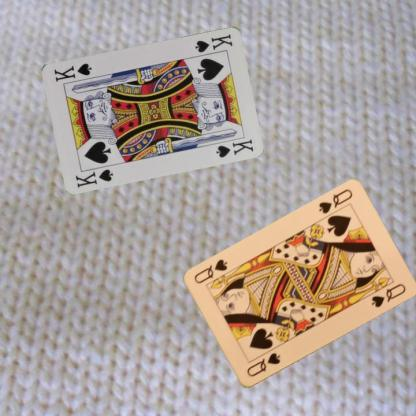Ks: (73, 166, 114, 189), (192, 31, 234, 53)
Qs: (316, 186, 354, 216), (244, 350, 282, 379)
